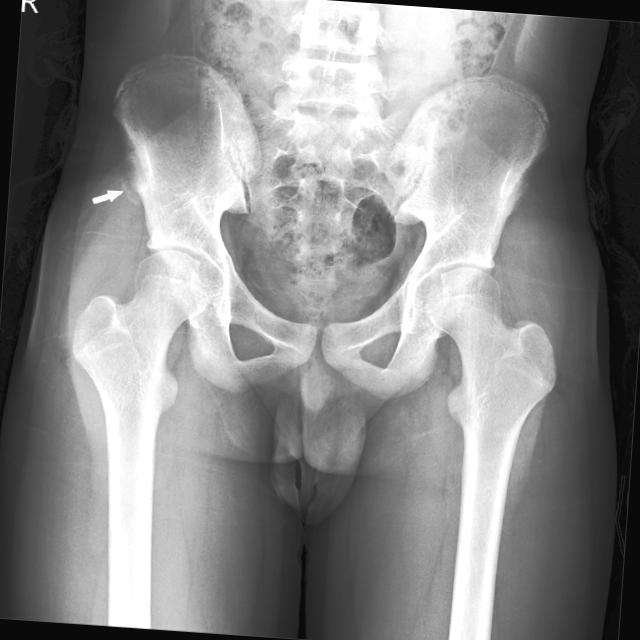Avlusion Fracture: (114, 167, 154, 215)
